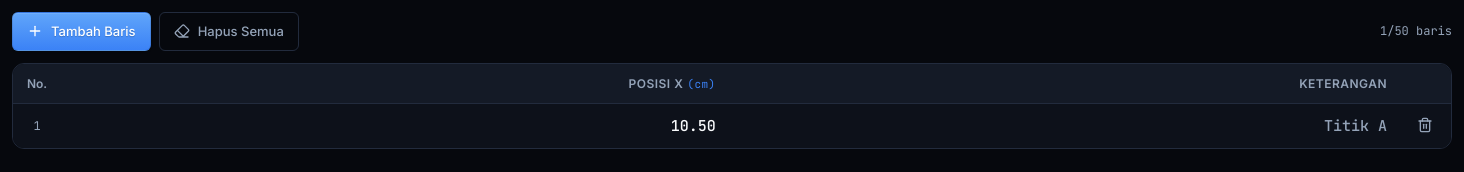
Scenario: 1. DataTable Keyboard Navigation & ARIA Grid › enters edit mode on click and on focus
# Focus triggers edit mode
Focus the button named "Edit Posisi X": (693, 126) [61,104,728,148]
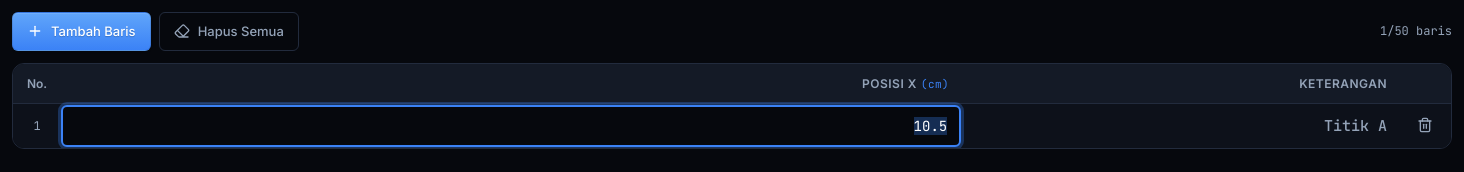
Check: the field named "Nilai Posisi X baris 1" is shown, box [61,105,961,147]
